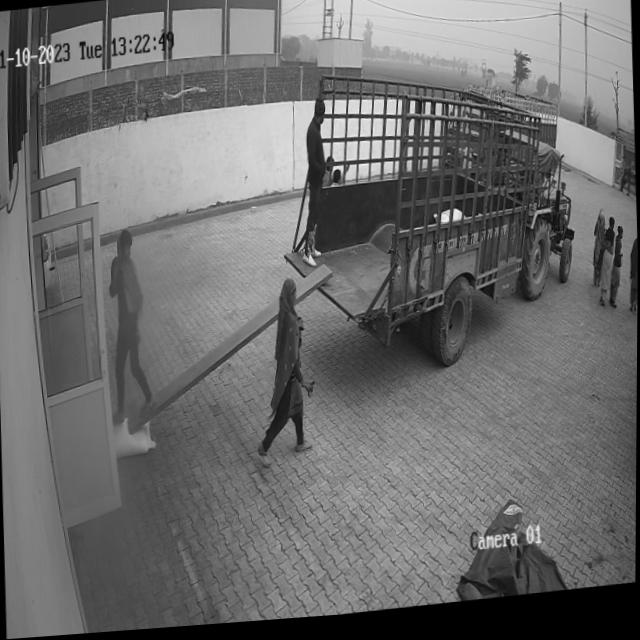sack: (113, 418, 156, 458)
